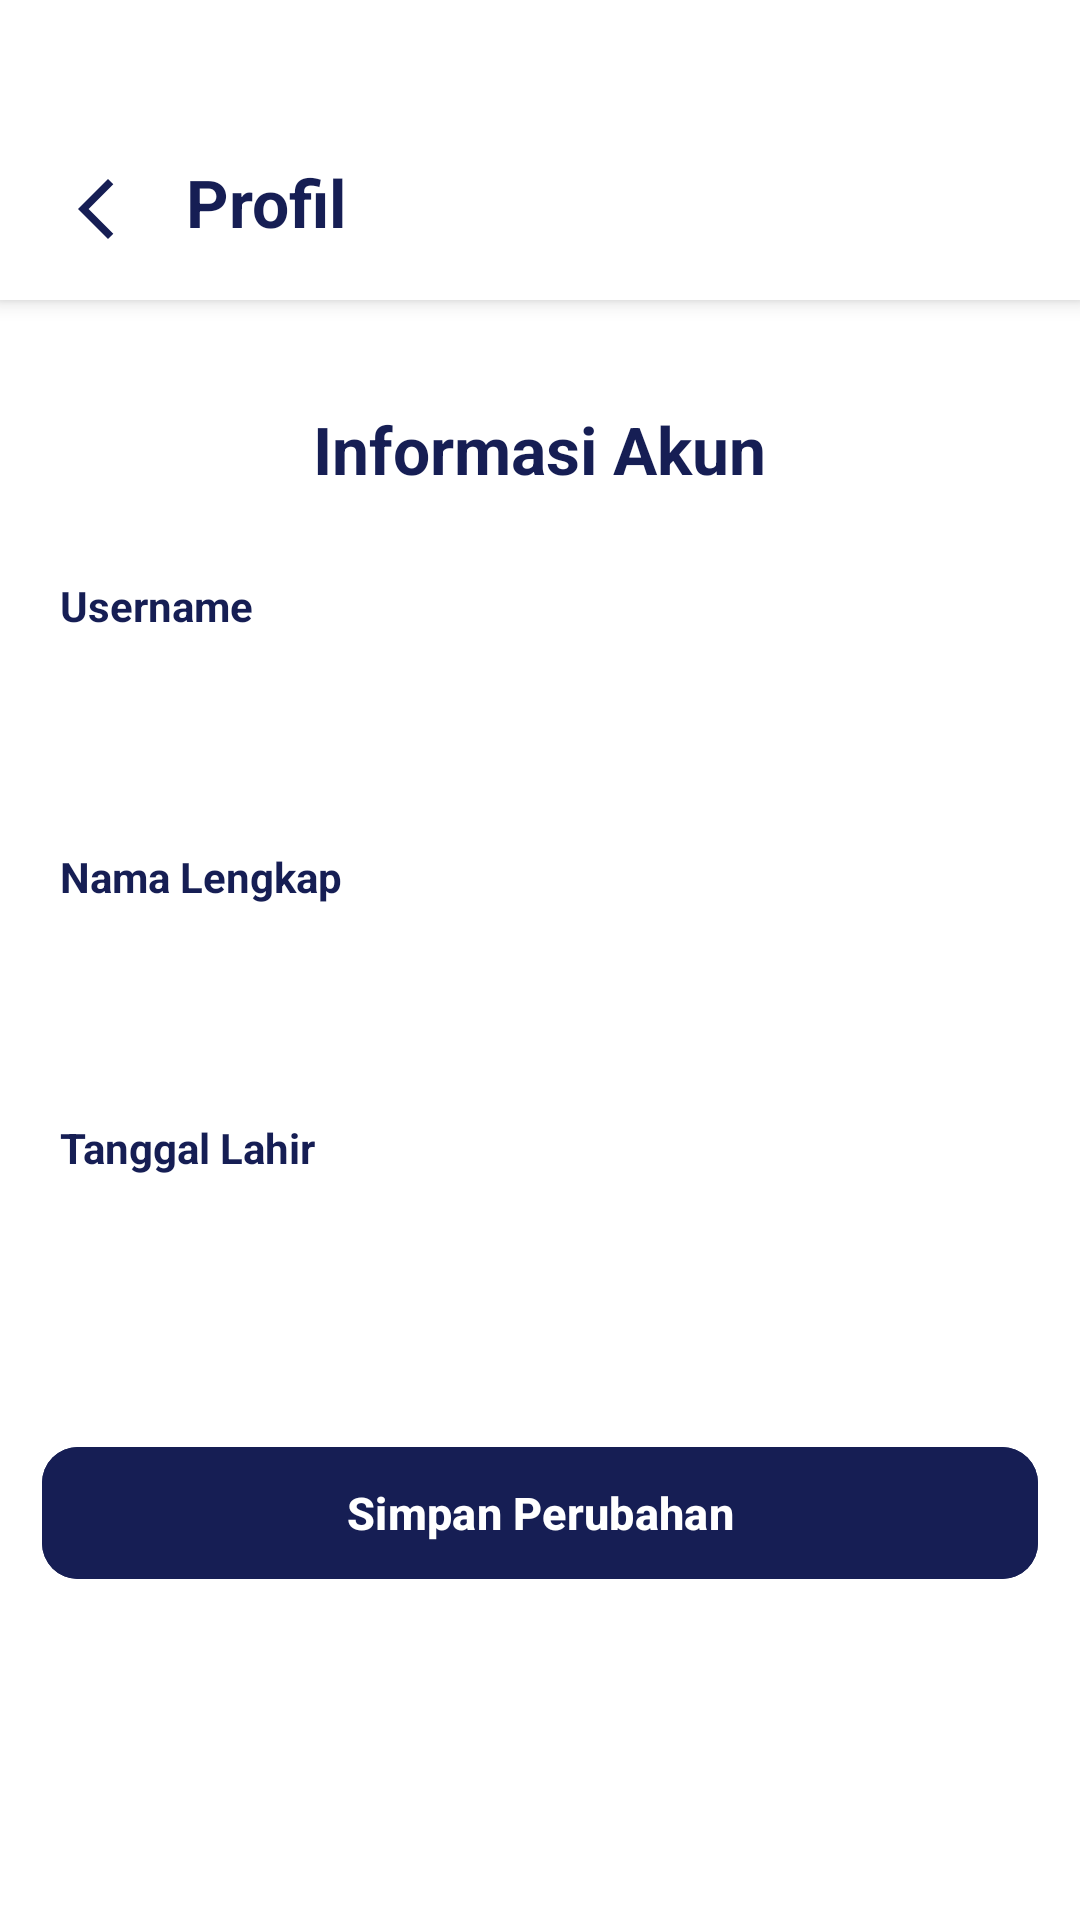

Icons on this 1080px×1920px Android screen, each with the point to tap as point (x, y):
back: point (95, 209)
